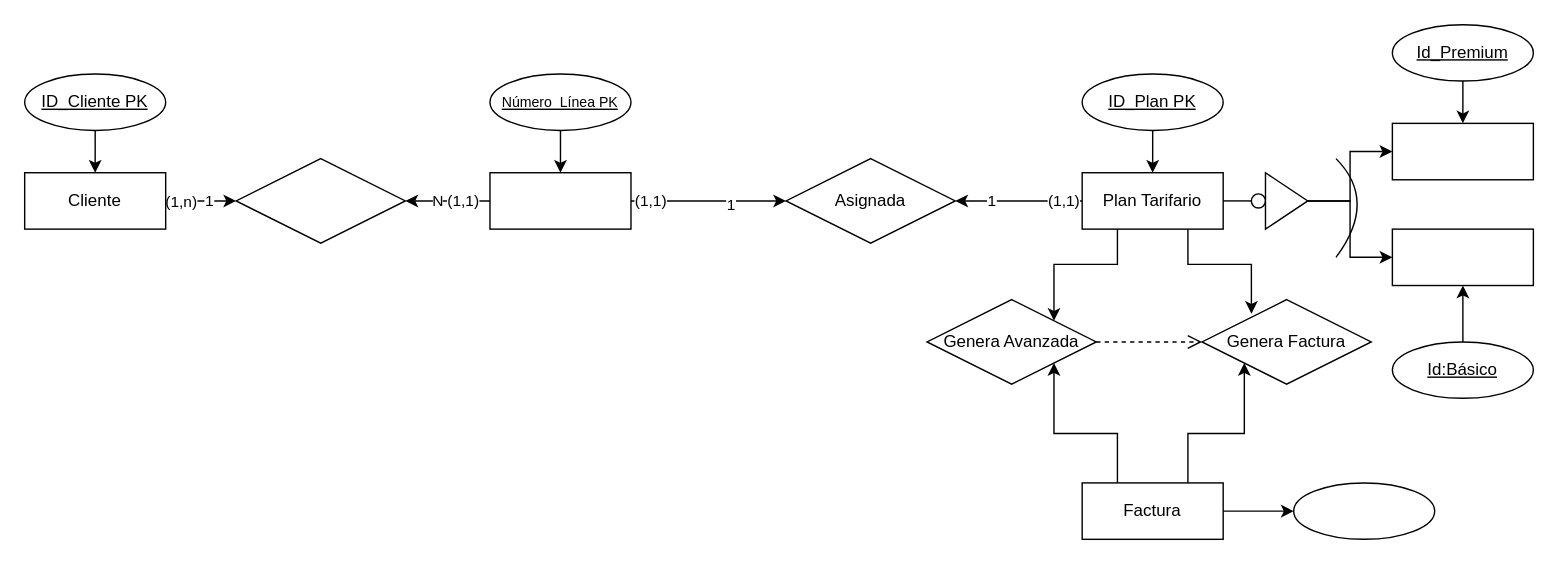
Some shapes in this 1558 by 564 pixel diagram are drawn without their labels. The shapes that lost their labels are listed below. From the top down, each one's centre as x and y in pixels, then its label:
pixel 1462 151: Plan Premium
pixel 320 200: Contratar
pixel 560 200: Línea Móvil
pixel 1462 257: Plan Básico
pixel 1363 510: IdFactura
